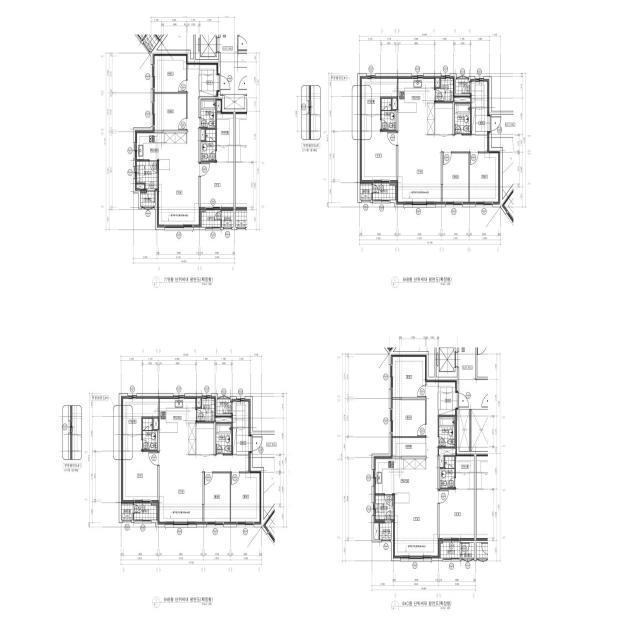space_balconi: (137, 161, 158, 189), (374, 495, 394, 522), (197, 399, 215, 421), (134, 503, 157, 520), (373, 183, 395, 200), (436, 79, 453, 101), (441, 541, 460, 558), (202, 210, 221, 227)
space_bedroom: (121, 451, 157, 500), (360, 131, 396, 180), (440, 490, 474, 541), (201, 163, 233, 210), (470, 153, 500, 202), (391, 355, 426, 397), (231, 473, 261, 522), (204, 473, 230, 522), (443, 153, 469, 202), (391, 400, 425, 436), (154, 56, 186, 92), (155, 94, 186, 130), (392, 98, 397, 109), (154, 418, 158, 429)
space_dressroom: (360, 78, 397, 130), (121, 398, 158, 450), (217, 112, 233, 161), (456, 454, 474, 488)
space_elevator: (196, 34, 218, 59)
space_elevator_hall: (459, 347, 488, 409), (220, 34, 237, 94), (491, 115, 514, 137), (253, 435, 275, 457)
space_front: (233, 428, 252, 455), (471, 108, 490, 135), (438, 391, 458, 415), (199, 73, 219, 96)
space_kitchen: (374, 456, 426, 507), (159, 399, 196, 454), (398, 79, 434, 134), (135, 126, 187, 160)
space_living_room: (393, 380, 440, 558), (157, 64, 201, 227), (159, 454, 250, 522), (398, 134, 489, 202)
space_other: (471, 409, 488, 451), (391, 438, 426, 456), (196, 423, 214, 454), (435, 103, 453, 134), (233, 401, 250, 427), (472, 81, 489, 107), (459, 409, 469, 451), (220, 95, 247, 109), (439, 448, 456, 467), (140, 190, 155, 206), (439, 380, 457, 393), (456, 79, 470, 94), (460, 543, 474, 558), (217, 399, 231, 414), (200, 63, 218, 73), (216, 417, 232, 422), (374, 523, 379, 539), (454, 97, 470, 102), (217, 99, 222, 111), (135, 184, 144, 190), (201, 129, 205, 140), (197, 398, 201, 407), (436, 78, 440, 87)
space_outdoor_room: (360, 184, 372, 200), (380, 522, 391, 539), (222, 211, 233, 227), (122, 504, 133, 520)
space_toilet: (439, 416, 455, 447), (216, 423, 232, 454), (201, 129, 216, 161), (440, 456, 455, 488), (381, 98, 396, 130), (455, 103, 470, 134), (143, 418, 157, 450), (201, 99, 216, 128)
